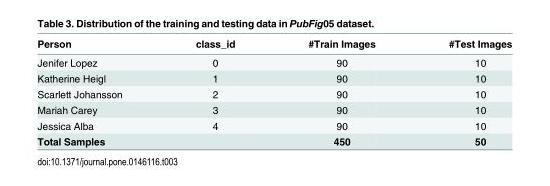table: (36, 37, 511, 146)
table column: (270, 37, 411, 146), (36, 37, 158, 146), (158, 37, 270, 146), (411, 37, 511, 146)
table column header: (36, 37, 511, 52)
table row: (36, 52, 511, 70), (36, 85, 511, 101), (36, 101, 511, 117), (36, 117, 511, 133), (36, 37, 511, 52), (36, 70, 511, 85), (36, 133, 511, 146)
